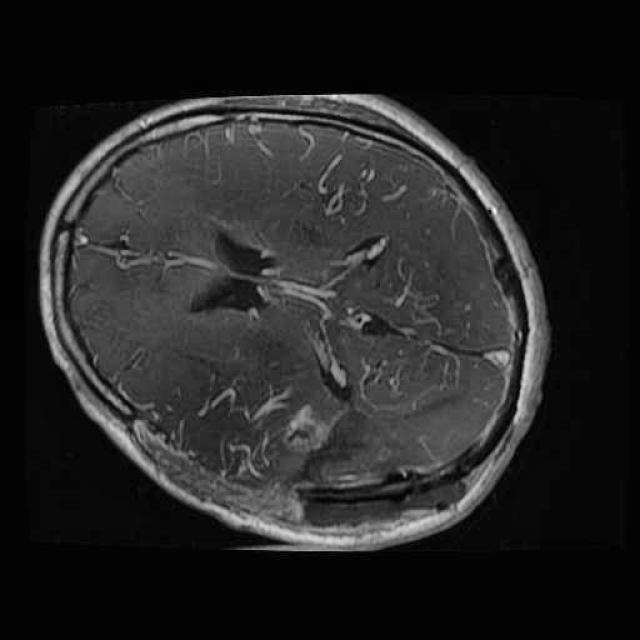Non-Tumor: (286, 380, 495, 500)
